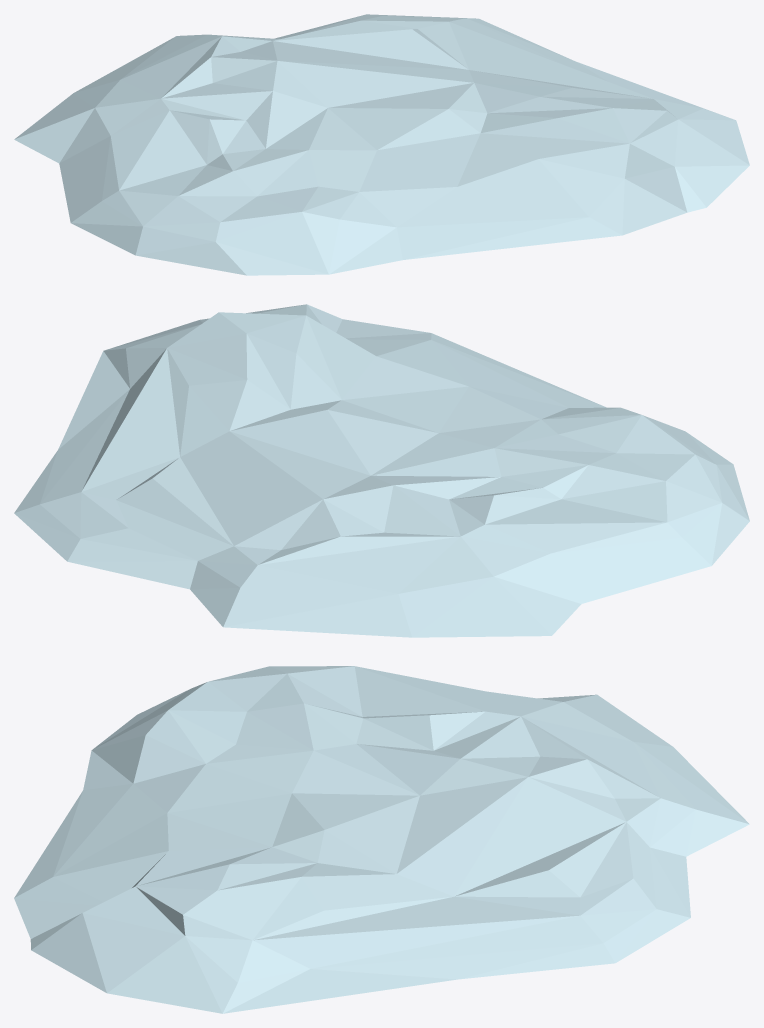
Rendered from SM_Env_GrassPatch_01_Snow.fbx.
3 renders of one model, top to bottom at view 1: azimuth 30°, elevation 25°; view 2: azimuth 150°, elevation 25°; view 3: azimuth 270°, elevation 25°, orthographic. The views are drawn at different scales.
Parts seen in each view (by area): view 1: SM_Env_GrassPatch_01_Snow; view 2: SM_Env_GrassPatch_01_Snow; view 3: SM_Env_GrassPatch_01_Snow.
Boxes of the visible parts, box(x1,y1,x2,y2) form: SM_Env_GrassPatch_01_Snow: box(14, 14, 749, 275); SM_Env_GrassPatch_01_Snow: box(14, 304, 749, 637); SM_Env_GrassPatch_01_Snow: box(14, 666, 749, 1013).
Size of the model in its own units: 265 by 18.64 by 239.
